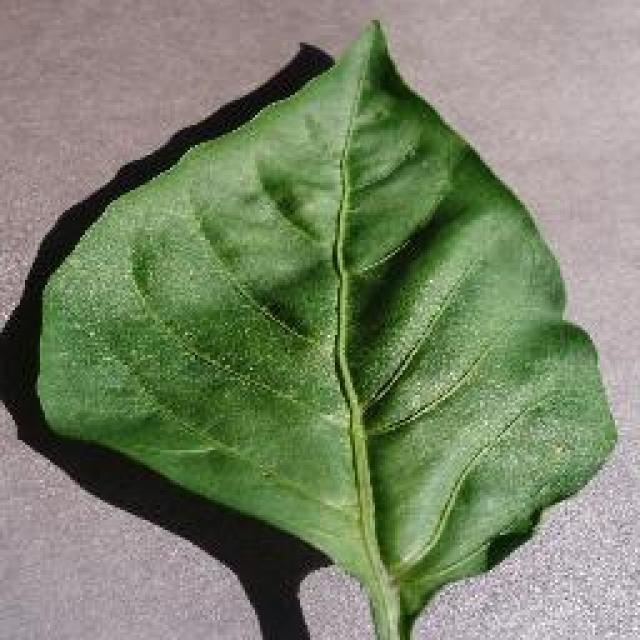Leaf: (71, 189, 560, 539)
